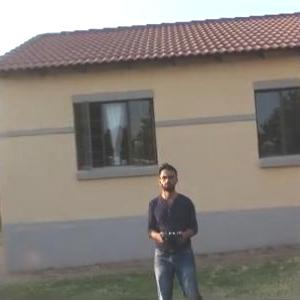follow: (145, 159, 206, 299)
